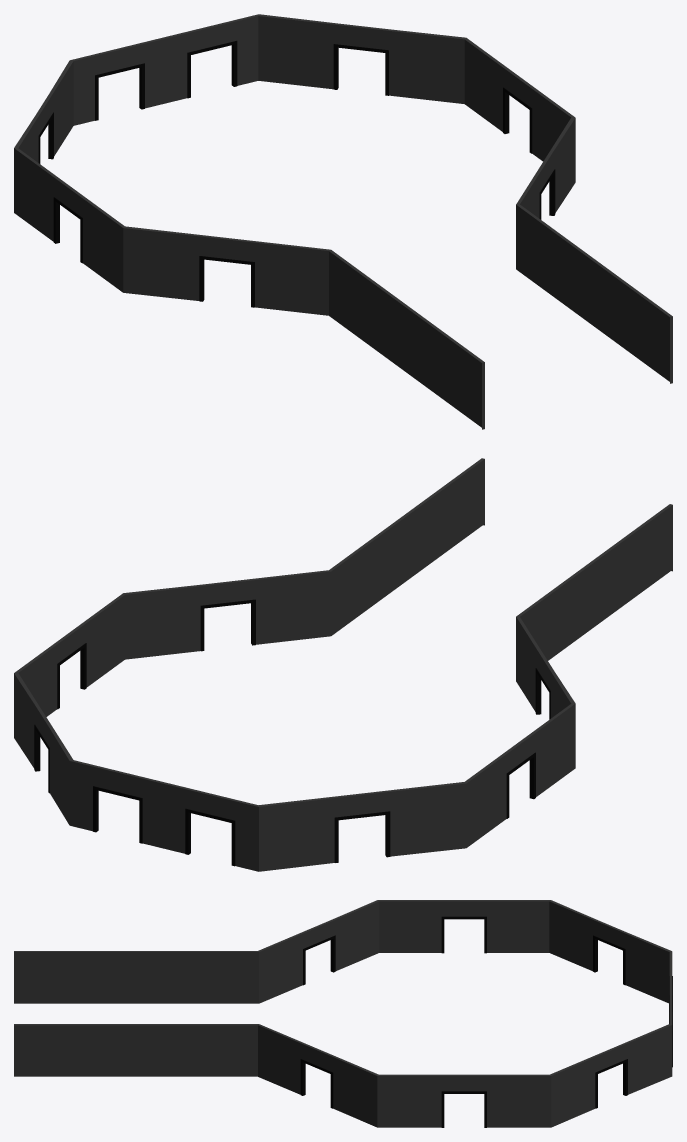
Rendered from ParedeHallPrimeiroAndar.gltf.
3 renders of one model, top to bottom at view 1: azimuth 30°, elevation 25°; view 2: azimuth 150°, elevation 25°; view 3: azimuth 270°, elevation 25°, orthographic. The views are drawn at different scales.
Parts seen in each view (by area): view 1: Cube.026; view 2: Cube.026; view 3: Cube.026.
Part boxes in pixels (<box>): Cube.026: <box>14,14,672,429</box>; Cube.026: <box>14,458,672,871</box>; Cube.026: <box>14,900,672,1127</box>.
Bounding box in the file's own units: 36.63 × 5.15 × 57.84.
1 material, 1 textured.
